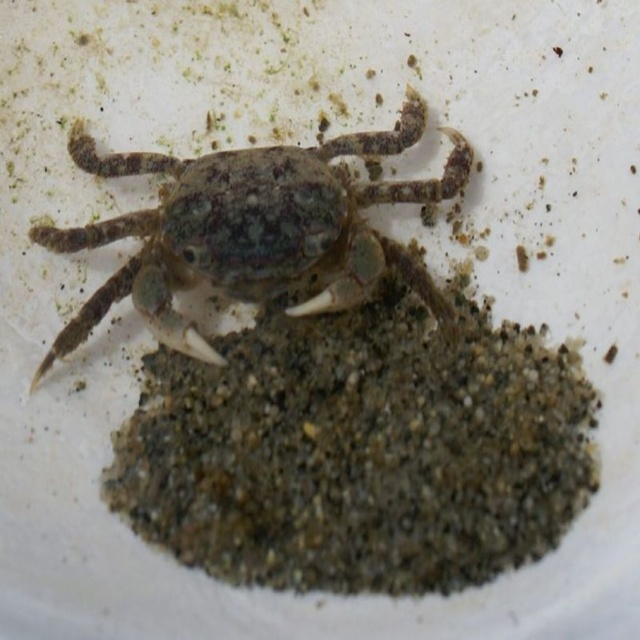Crab: (28, 86, 469, 392)
